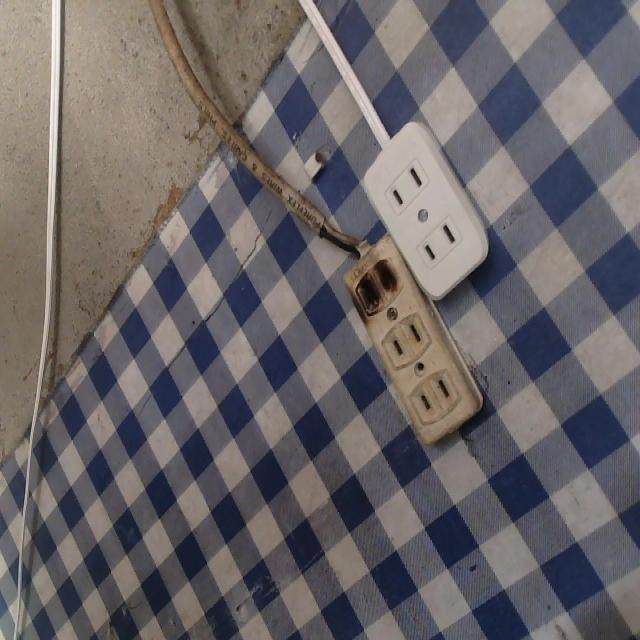-: (342, 249, 413, 319)
